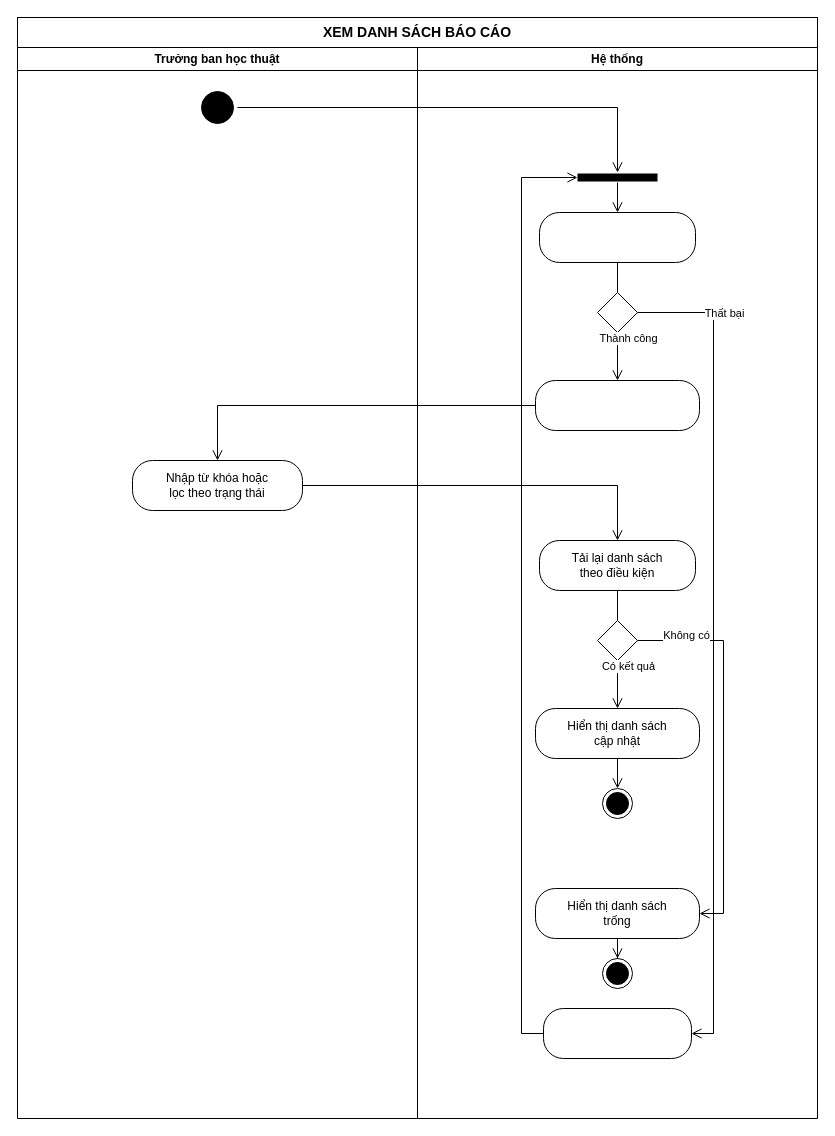
The diagram is 835 pixels wide and 1136 high, and some of its shapes have lost their labels. Here are the shapes that lost their labels. From the top down, the centre of each, then its label:
[617,237]: Tải thống kê và danh sách báo cáo
[617,405]: Hiển thị danh sách và thống kê
[617,1033]: Thông báo tải dữ liệu thất bại
